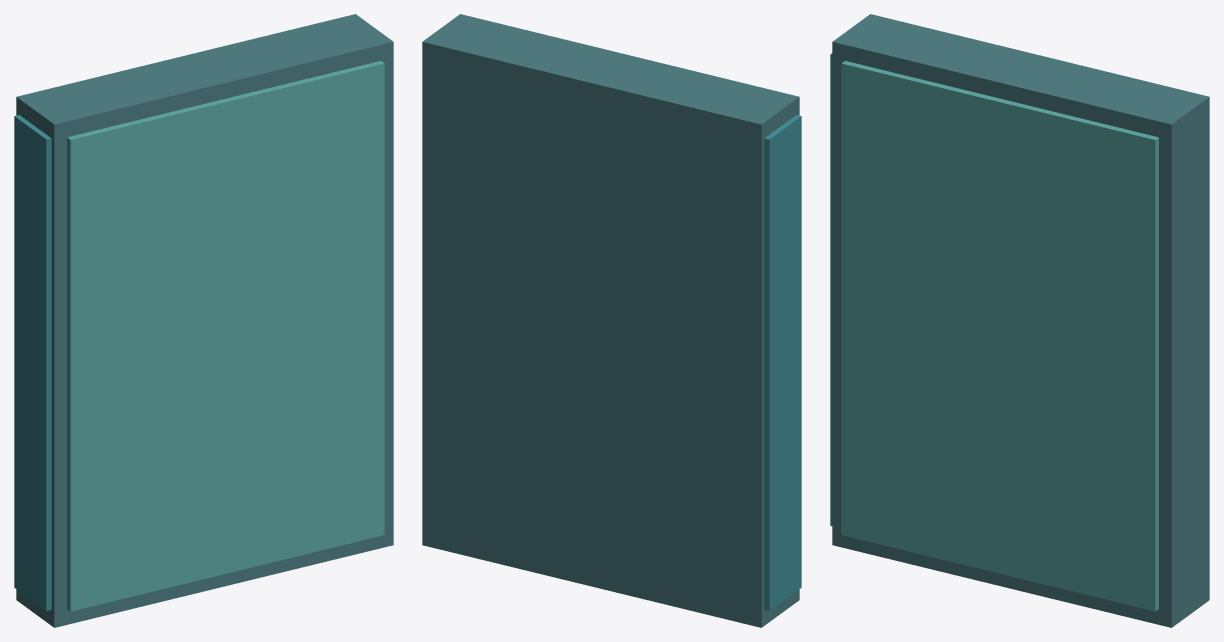
Rendered from game_case_placeholder.glb.
3 views of the same model, side by side, from view 1: azimuth 30°, elevation 25°; view 2: azimuth 150°, elevation 25°; view 3: azimuth 330°, elevation 25° (orthographic).
Parts seen in each view (by area): view 1: cover_front, case_plastic, case_spine; view 2: case_plastic, case_spine; view 3: cover_front, case_plastic, case_spine.
Boxes of the visible parts, x1=… form: cover_front: x1=67, y1=61, x2=384, y2=611; case_plastic: x1=16, y1=14, x2=393, y2=627; case_spine: x1=14, y1=115, x2=51, y2=610; case_plastic: x1=422, y1=14, x2=799, y2=627; case_spine: x1=764, y1=115, x2=801, y2=610; cover_front: x1=841, y1=61, x2=1158, y2=611; case_plastic: x1=832, y1=14, x2=1209, y2=627; case_spine: x1=830, y1=53, x2=832, y2=526.
Bounding box in the file's own units: 1.36 × 1.9 × 0.285.
